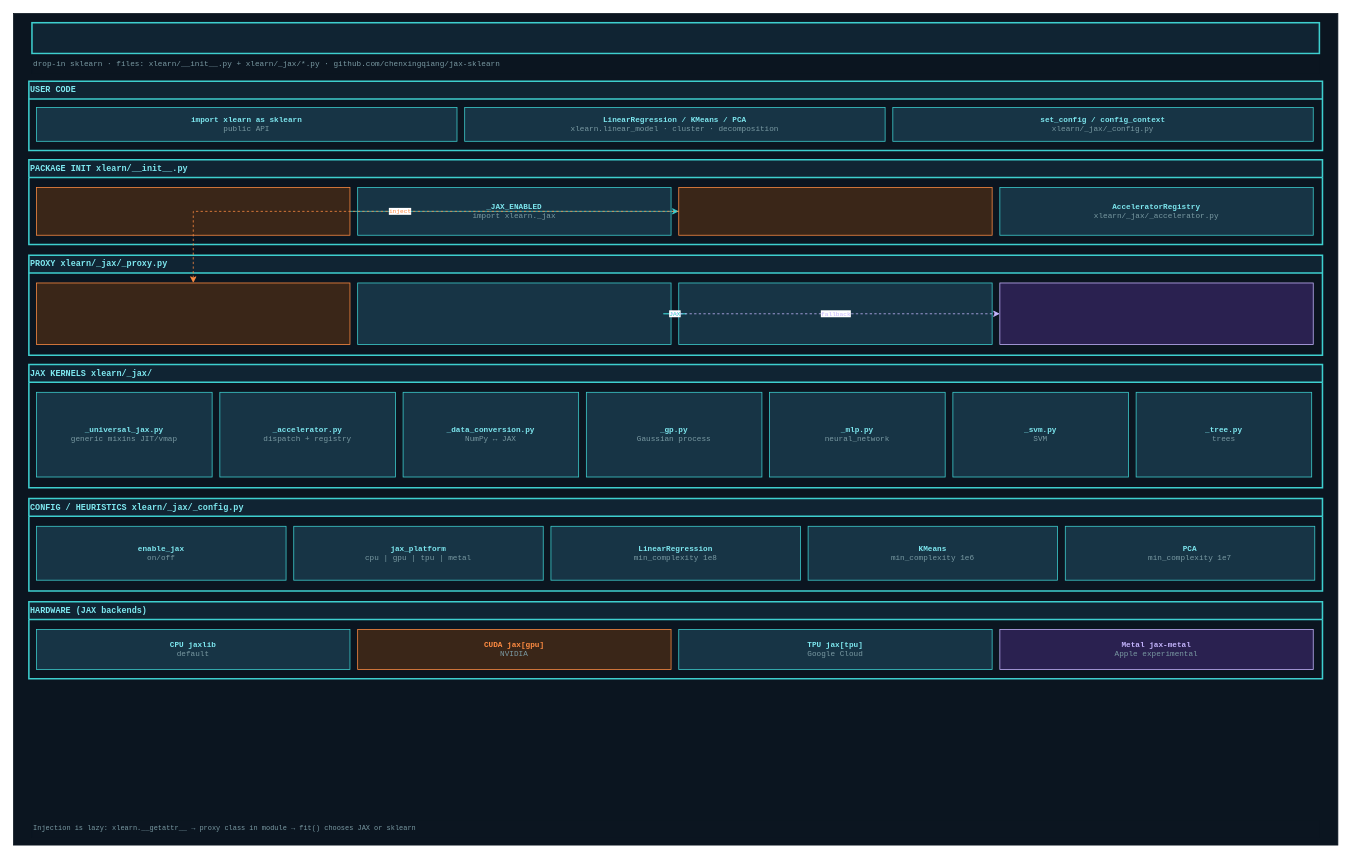
The diagram is 1351 pixels wide and 859 high, and some of its shapes have lost their labels. The shapes that lost their labels are listed below. From the top down, each one's centre as x and y in pixels, then its label:
At [675,38]: "JAX-SKLEARN (xlearn) — SYSTEM ARCHITECTURE".
At [193,211]: "__getattr__(name) lazy submodule import".
At [835,211]: "_auto_jax_accelerate_module replace estimator classes".
At [193,313]: "create_intelligent_proxy wrap estimator type".
At [514,313]: "EstimatorProxy.__init__ _create_implementation()".
At [835,313]: "JAX path create_accelerated_estimator".
At [1156,313]: "sklearn fallback original_class(*args)".
